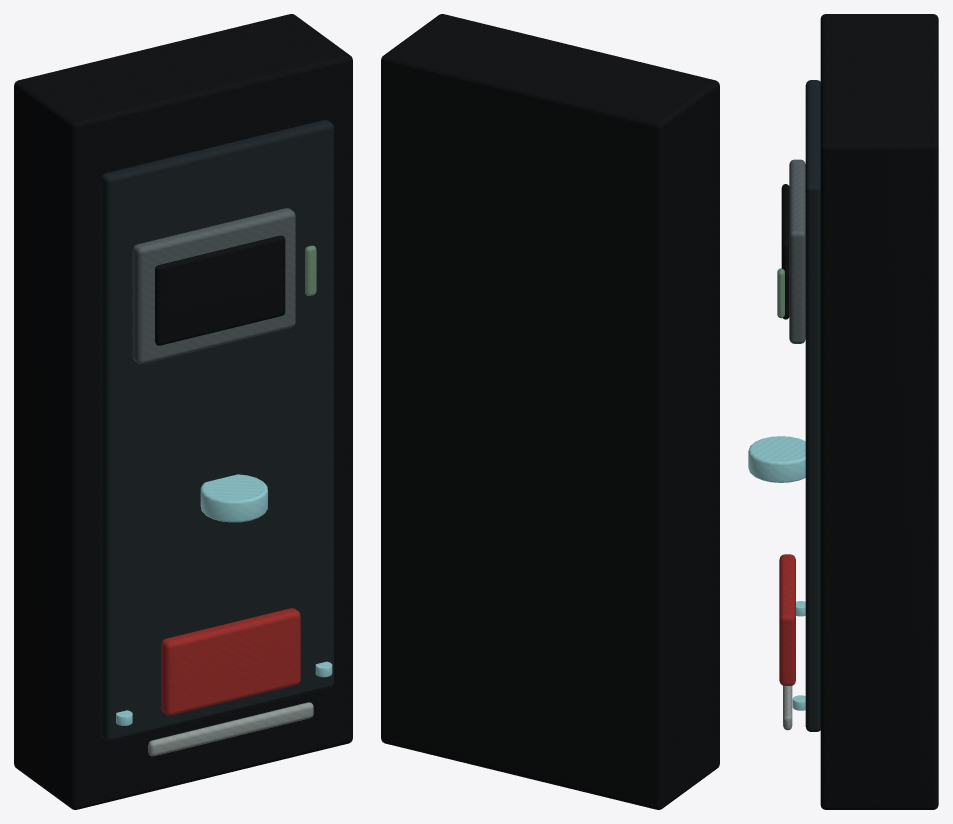
Rendered from AirlockControlPanel.glb.
3 views of the same model, side by side, from view 1: azimuth 30°, elevation 25°; view 2: azimuth 150°, elevation 25°; view 3: azimuth 270°, elevation 25° (orthographic). The views are drawn at different scales.
Parts seen in each view (by area): view 1: AirlockControlPanel_Mesh; view 2: AirlockControlPanel_Mesh; view 3: AirlockControlPanel_Mesh.
Boxes of the visible parts, left/top/right/bottom form: AirlockControlPanel_Mesh: left=14, top=14, right=352, bottom=809; AirlockControlPanel_Mesh: left=381, top=14, right=719, bottom=809; AirlockControlPanel_Mesh: left=748, top=14, right=938, bottom=809.
Bounding box in the file's own units: 0.48 × 1.12 × 0.29.
7 materials, 7 textured.
